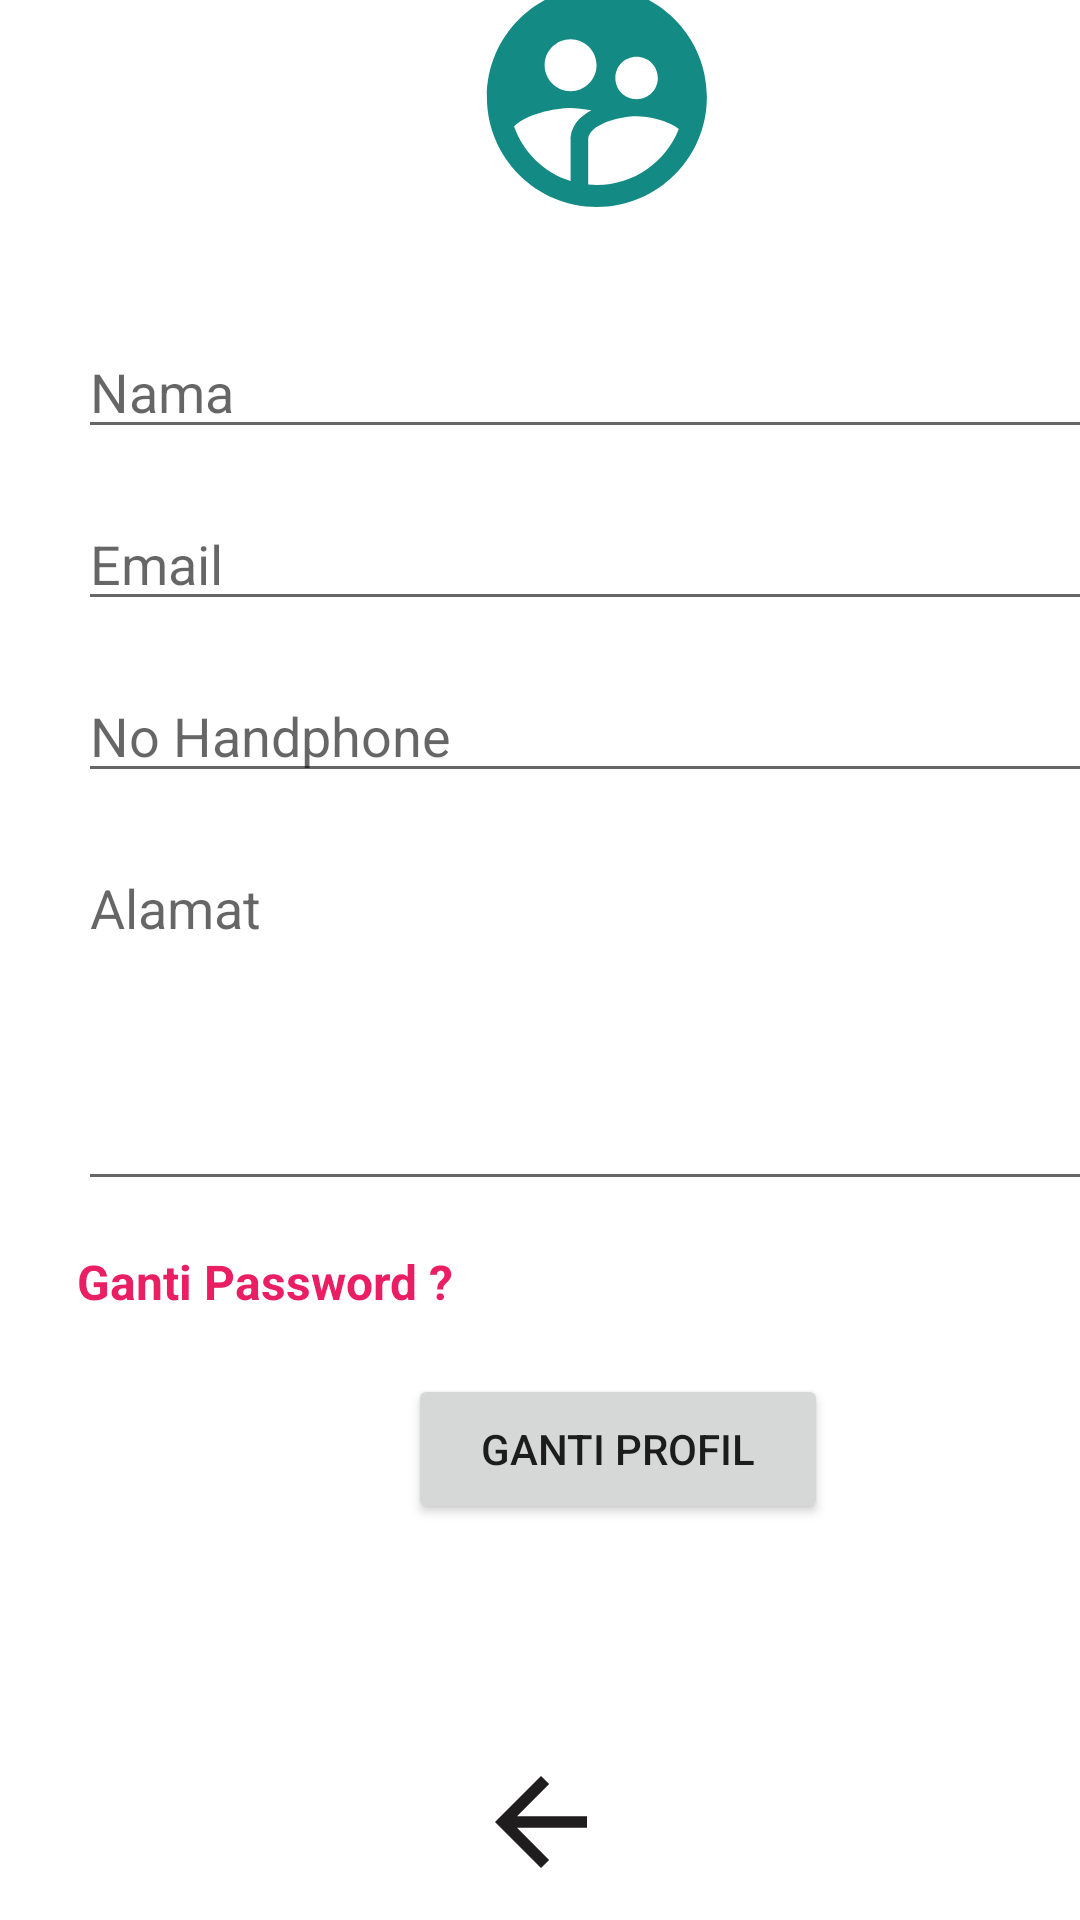

Point at icon controls on the screen. Image size 1080w x 1920h, points as (x=x, y=y).
arrow back: (x=541, y=1822)
